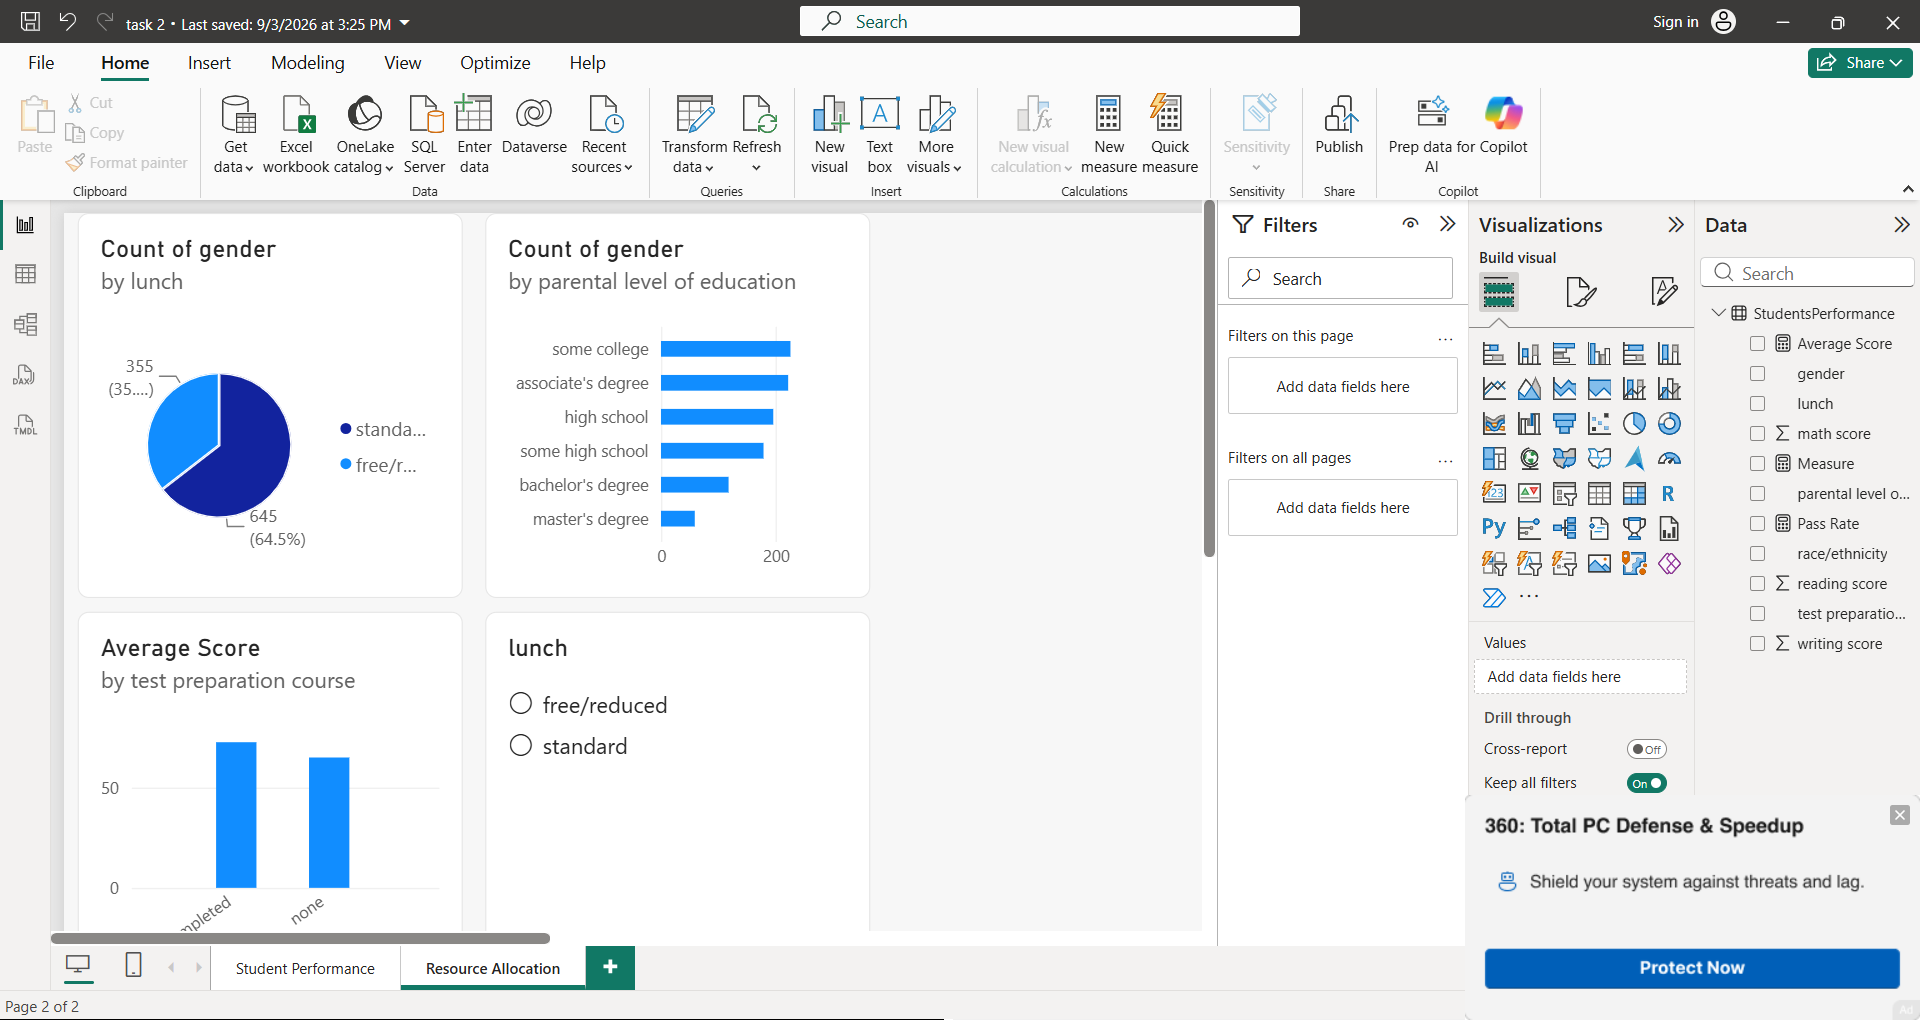

The dashboard page shown, as its layout file describes it:
{"tool":"powerbi","page":{"name":"Resource Allocation","canvas":[1920,1080],"ordinal":1},"visuals":[{"type":"pieChart","fields":{"Category":["StudentsPerformance.lunch"],"Y":["CountNonNull(StudentsPerformance.gender)"]},"box":[10,0,280,280],"z":0},{"type":"clusteredColumnChart","fields":{"Category":["StudentsPerformance.test preparation course"],"Y":["StudentsPerformance.Average Score"]},"box":[10,290,280,280],"z":1},{"type":"clusteredBarChart","fields":{"Category":["StudentsPerformance.parental level of education"],"Y":["CountNonNull(StudentsPerformance.gender)"]},"box":[306.4,0,280,280],"z":2},{"type":"listSlicer","fields":{"Values":["StudentsPerformance.lunch"]},"box":[306.4,290,280,280],"z":3}]}

Visuals, with their boxes on the page's 1920x1080 design canvas (x1, y1, x2, y2). These are canvas units, not pixel positions in the 1920x1020 screenshot, which may show the page scaled, cropped or inside an application window:
pieChart - StudentsPerformance.lunch x CountNonNull(StudentsPerformance.gender): 10:0:290:280
clusteredColumnChart - StudentsPerformance.test preparation course x StudentsPerformance.Average Score: 10:290:290:570
clusteredBarChart - StudentsPerformance.parental level of education x CountNonNull(StudentsPerformance.gender): 306:0:586:280
listSlicer - StudentsPerformance.lunch: 306:290:586:570
